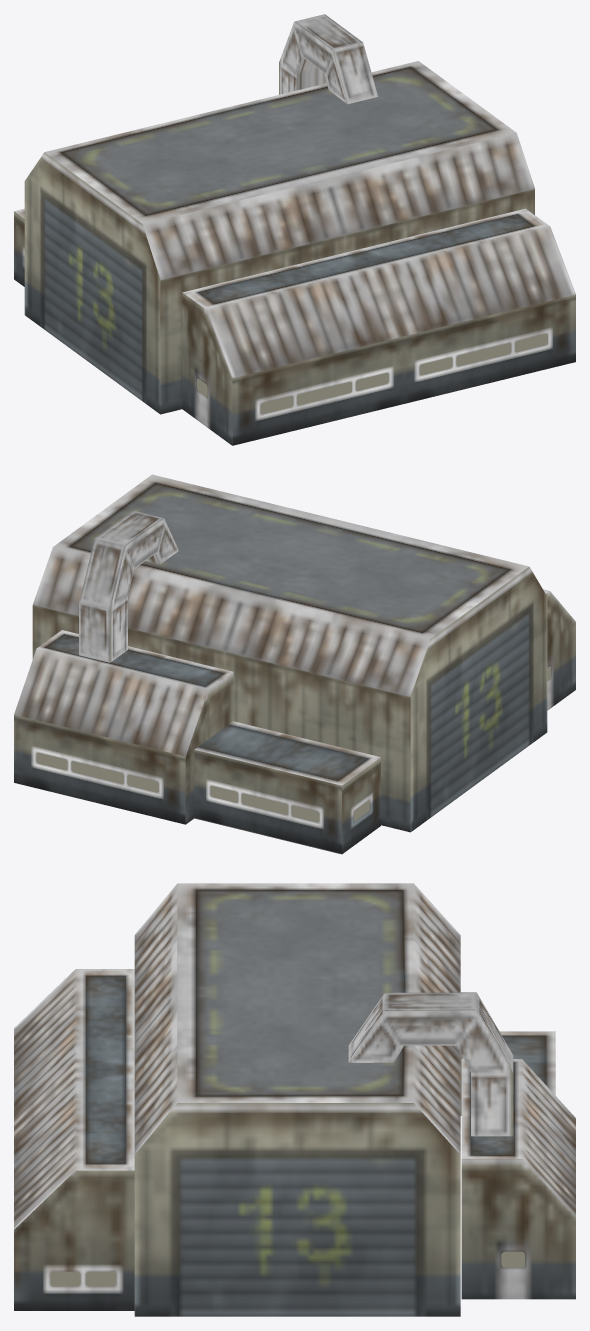
The model's file is vehiclehangar.glb.
3 views of the same model, one above another, from view 1: azimuth 30°, elevation 25°; view 2: azimuth 150°, elevation 25°; view 3: azimuth 270°, elevation 25° (orthographic). The views are drawn at different scales.
Parts seen in each view (by area): view 1: VehicleHangar, LitWin_Hangar; view 2: VehicleHangar, LitWin_Hangar; view 3: VehicleHangar, LitWin_Hangar.
Boxes of the visible parts, box(x1,y1,x2,y2) form: VehicleHangar: box(14, 14, 575, 445); LitWin_Hangar: box(197, 334, 547, 414); VehicleHangar: box(14, 474, 575, 854); LitWin_Hangar: box(36, 666, 550, 822); VehicleHangar: box(14, 883, 575, 1316); LitWin_Hangar: box(50, 1053, 524, 1286).
Size of the model in its own units: 21.06 by 11.9 by 22.75.
Materials: 1 (1 with a texture image).
